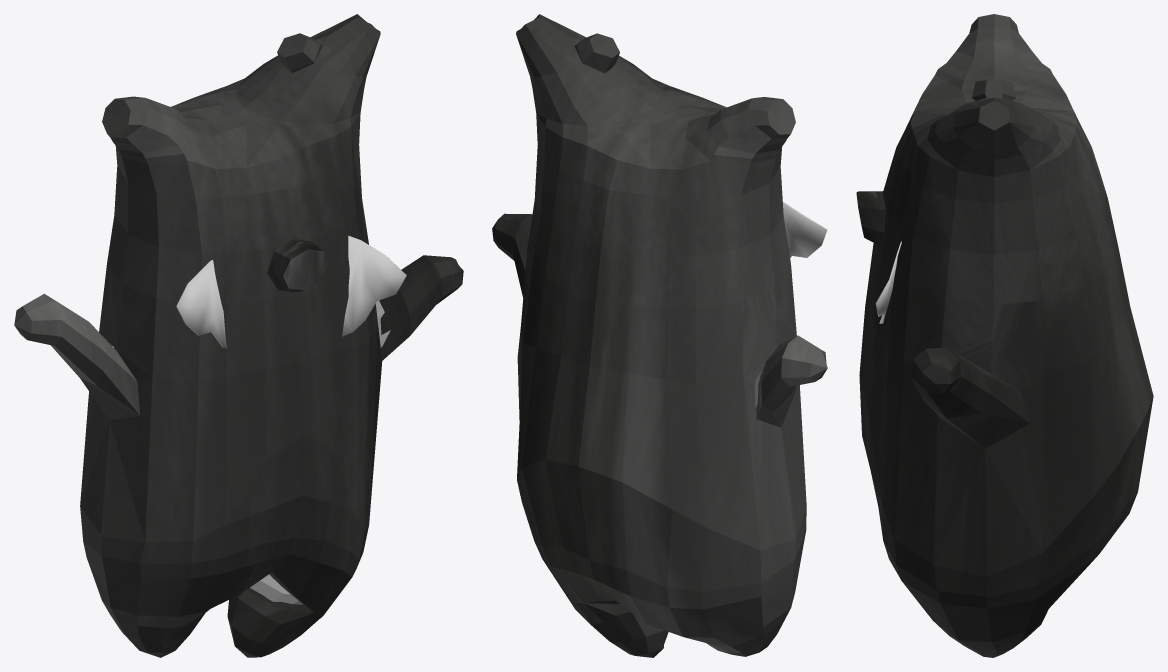
Rendered from frame_0009.obj.
The picture shows the model from 3 angles, left to right: view 1: azimuth 30°, elevation 25°; view 2: azimuth 150°, elevation 25°; view 3: azimuth 270°, elevation 25°; orthographic projection.
Parts seen in each view (by area): view 1: korok, leaf, nose; view 2: korok, leaf; view 3: korok, nose, leaf.
Boxes of the visible parts, x1=… form: korok: x1=14, y1=14, x2=463, y2=657; leaf: x1=176, y1=235, x2=406, y2=348; nose: x1=267, y1=239, x2=327, y2=291; korok: x1=492, y1=14, x2=827, y2=657; leaf: x1=782, y1=201, x2=827, y2=257; korok: x1=859, y1=14, x2=1153, y2=657; nose: x1=856, y1=191, x2=885, y2=245; leaf: x1=875, y1=241, x2=901, y2=323.
Size of the model in its own units: 1.78 by 2.65 by 1.19.
